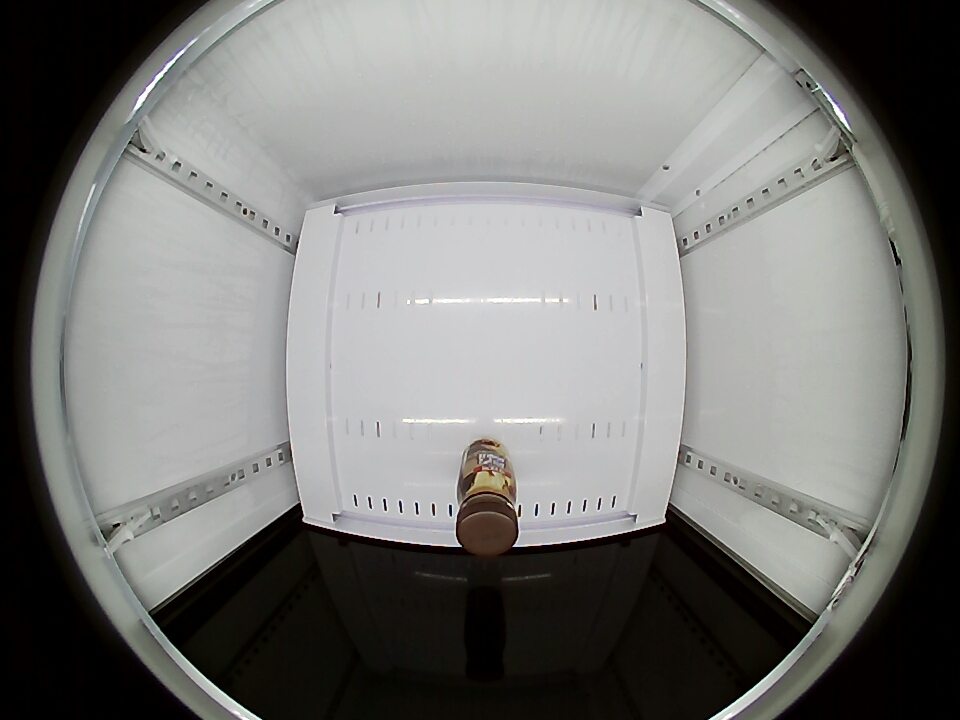lujikafei: (455, 466, 520, 555)
